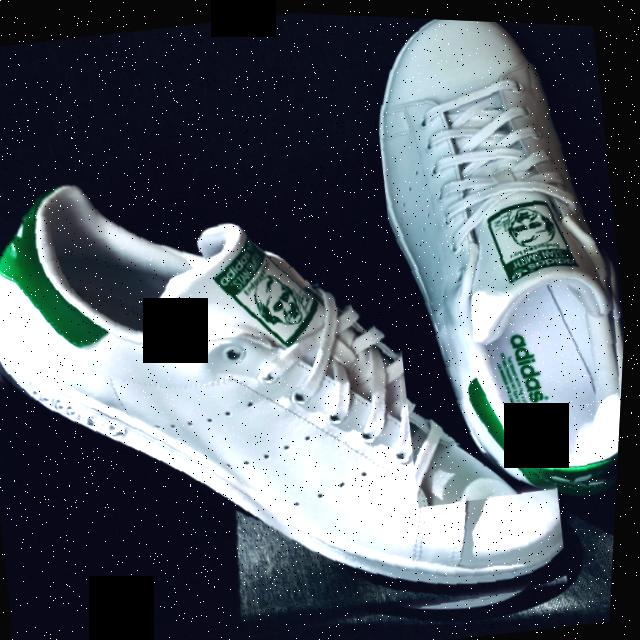shoe: (0, 105, 596, 640), (347, 13, 640, 510)
